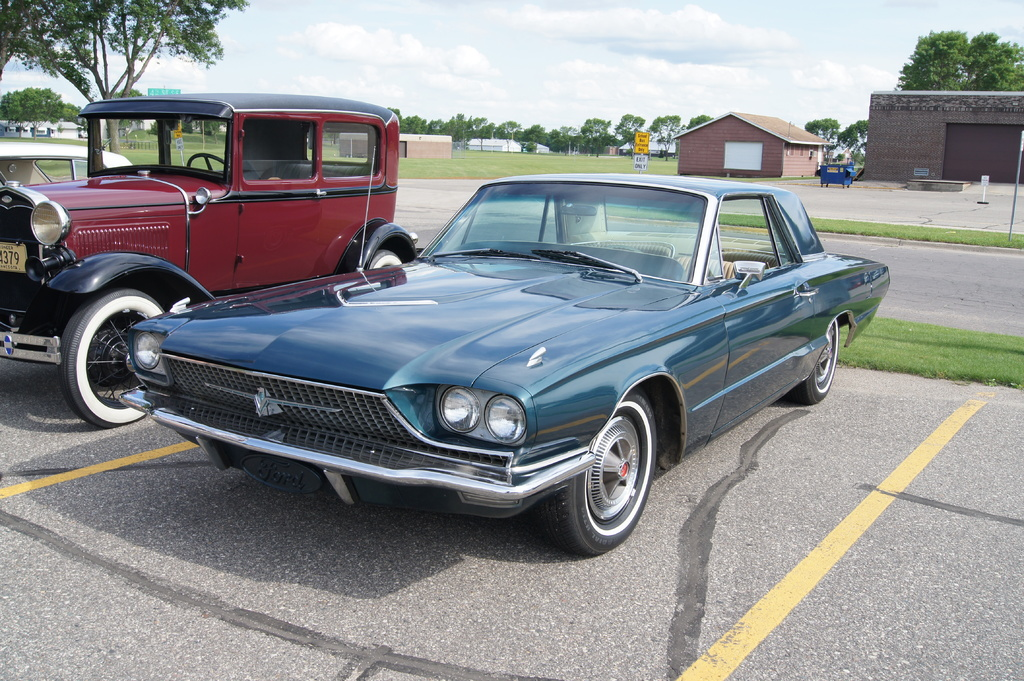Car: (89, 167, 883, 554), (0, 88, 421, 428), (0, 137, 136, 188)
